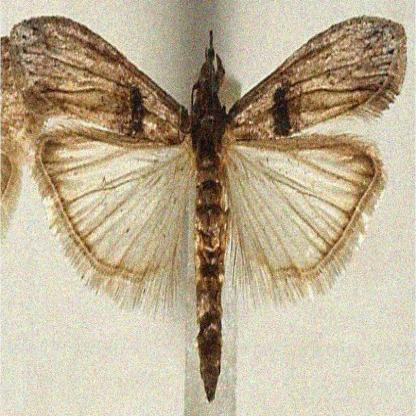Leaf Webber: (14, 13, 408, 405)
